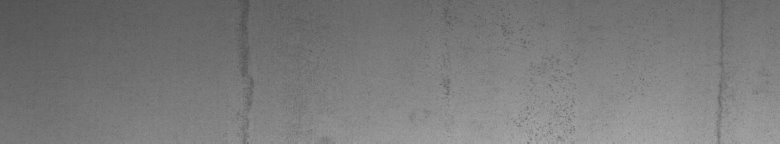ib: (439, 9, 571, 127)
